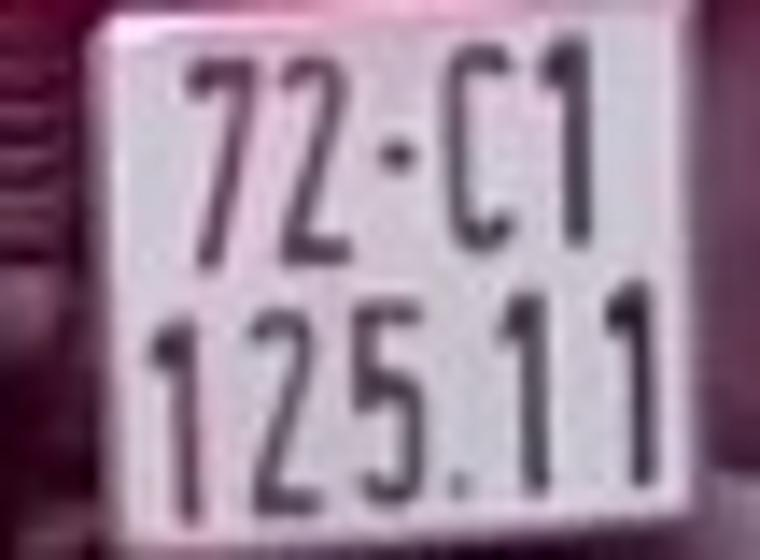-: (378, 136, 422, 172)
.: (442, 457, 467, 493)
1: (139, 304, 207, 524), (536, 30, 606, 243), (490, 281, 553, 493), (596, 278, 656, 471)
2: (267, 47, 358, 272), (237, 301, 320, 514)
5: (340, 290, 428, 508)
7: (172, 46, 259, 272)
C: (431, 35, 526, 260)
